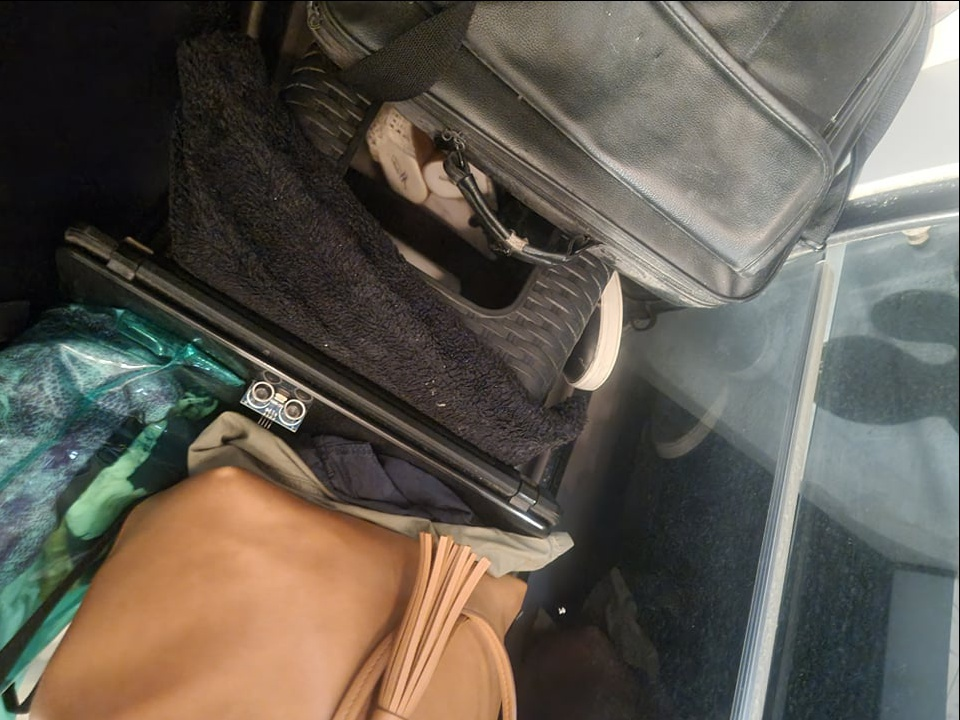SENSOR: (239, 378, 309, 431)
